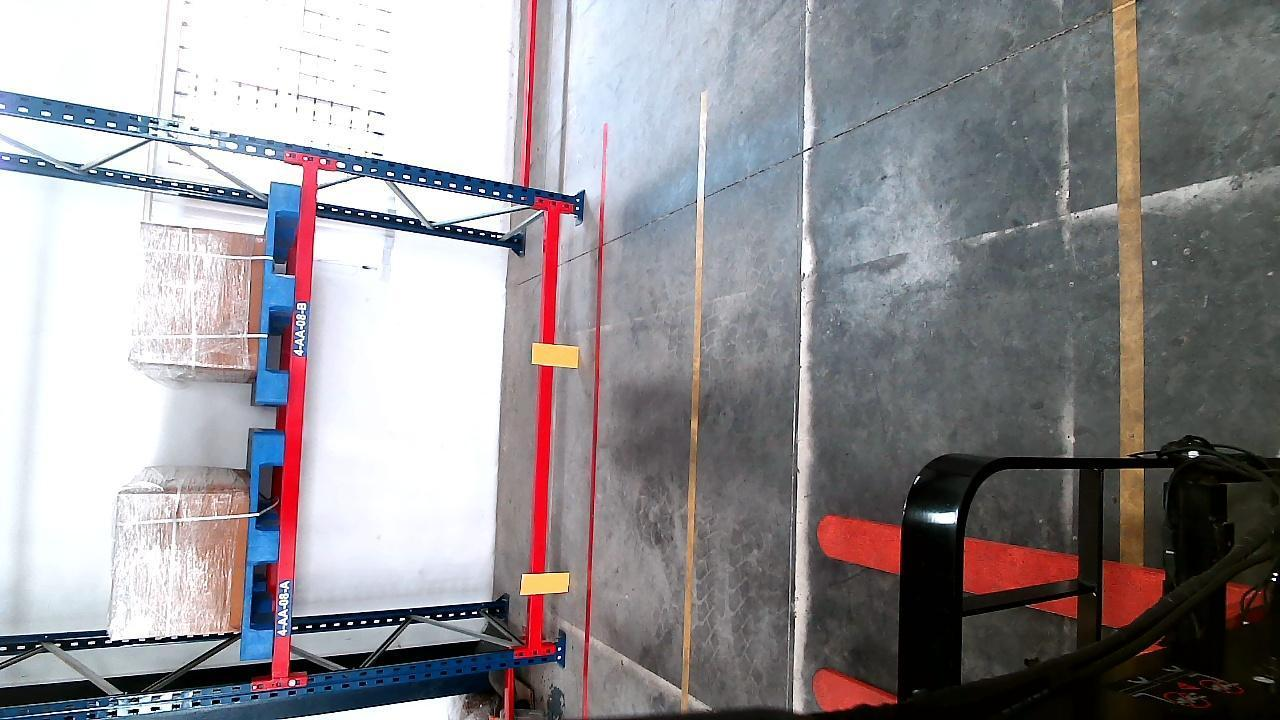h_rack: (272, 163, 316, 680), (528, 209, 562, 638)
orange_strip: (522, 570, 573, 594), (535, 343, 582, 367)
red_line: (580, 122, 611, 718)
small_pallet: (257, 179, 299, 414), (244, 438, 285, 656)
yellow_line: (675, 89, 708, 712), (1114, 0, 1147, 521)
